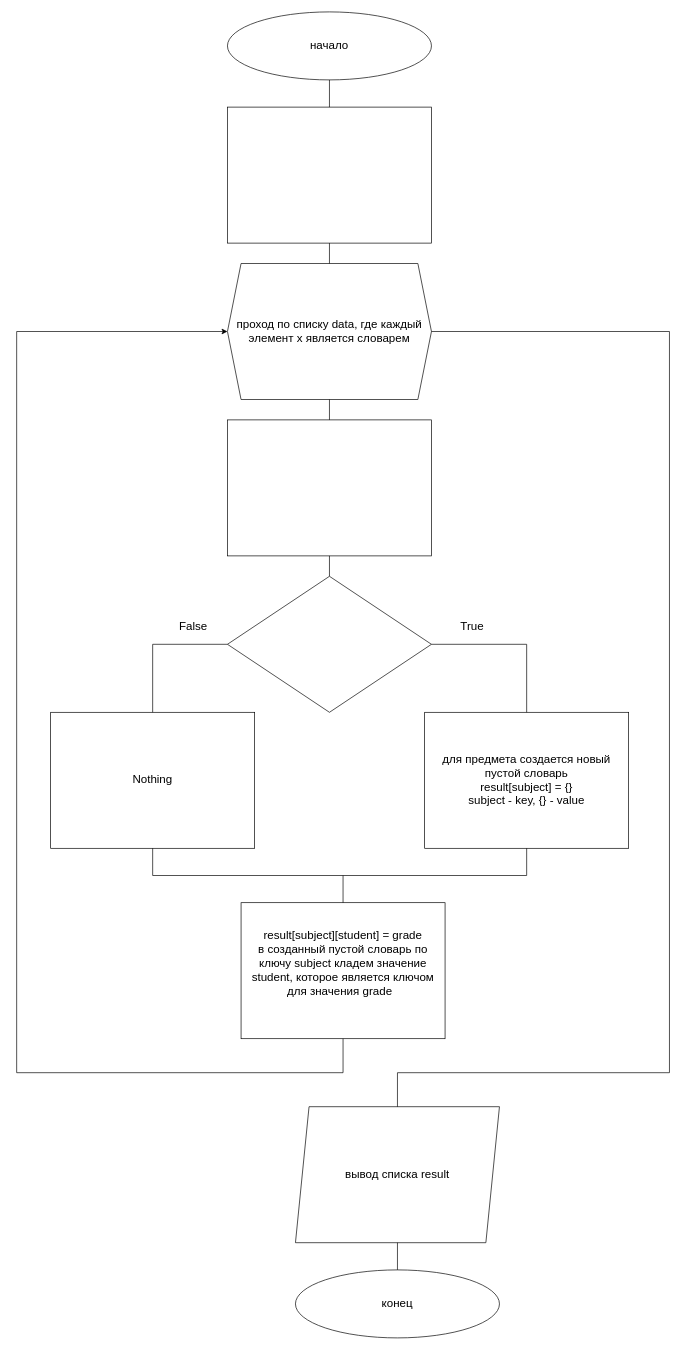
Image size: 682x1350. Some labels were removed from this diagram. The shapes that lost their labels are listed below. From the top down, each one's centre as x and y in pixels, then its label:
point 329,174: создание списка data создание пустого словаря result
point 329,487: subject = x["subject"] student = x["student"] grade = x["grade"]
point 329,644: subject не лежит в result
